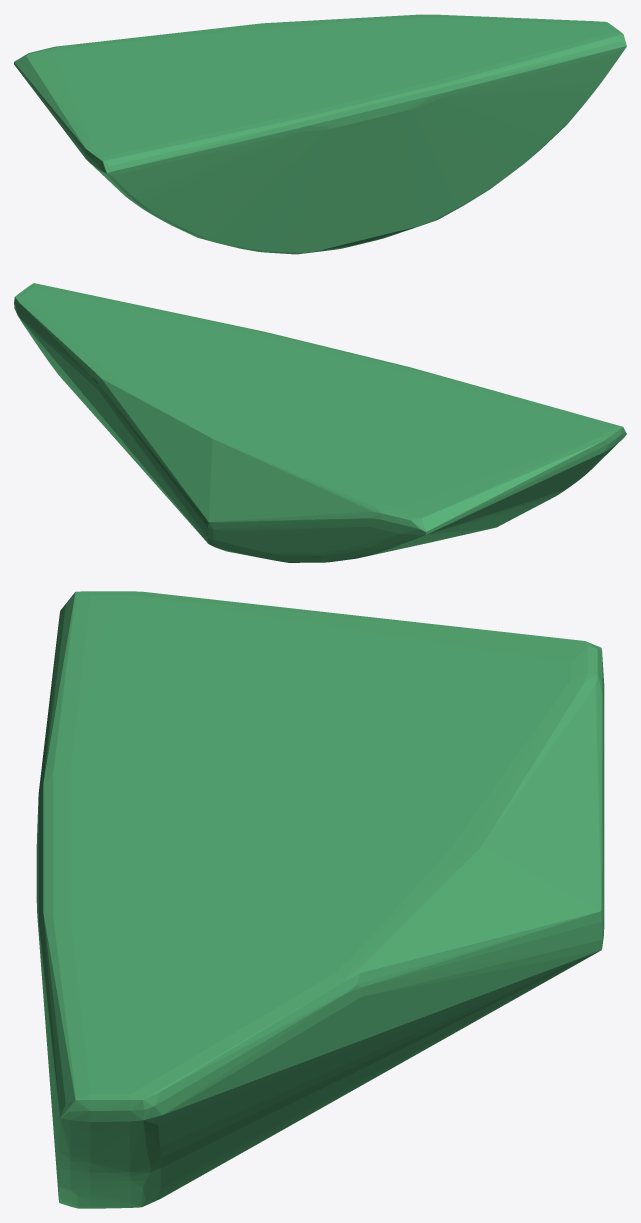
File: left_hip_yaw_link_part_3.obj
3 views of the same model, one above another, from view 1: azimuth 30°, elevation 25°; view 2: azimuth 150°, elevation 25°; view 3: azimuth 270°, elevation 25° (orthographic). The views are drawn at different scales.
Bounding box in the file's own units: 0.0874 × 0.0234 × 0.041.
